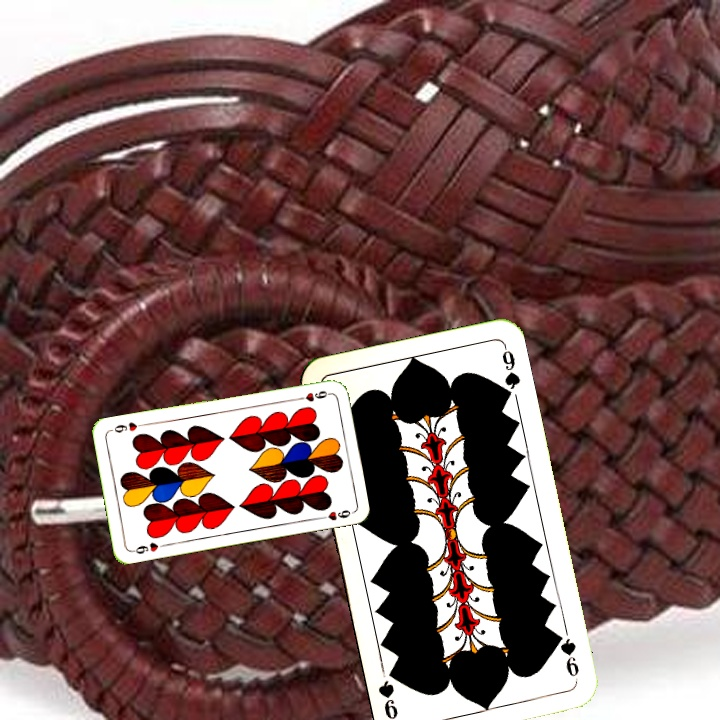G9: (552, 628, 581, 685)
H9: (128, 538, 168, 557), (292, 386, 333, 404)
